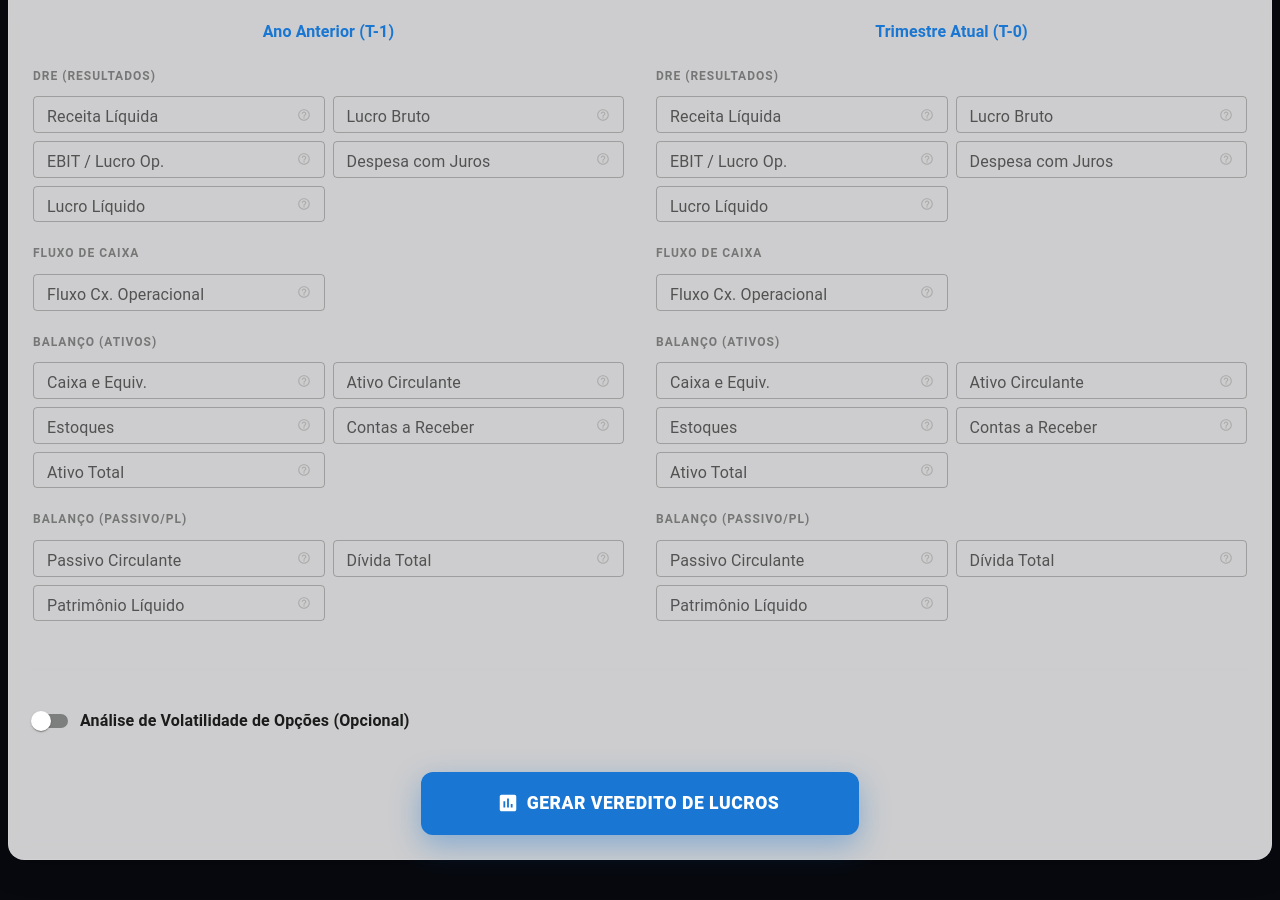
Test: EarningsPredictionPage validation › blocks submit on empty fields and names the invalid count
(page scrolled)
Click the button "Gerar Veredito de Lucros" at (640, 804), box [421,772,859,835]
(page scrolled)
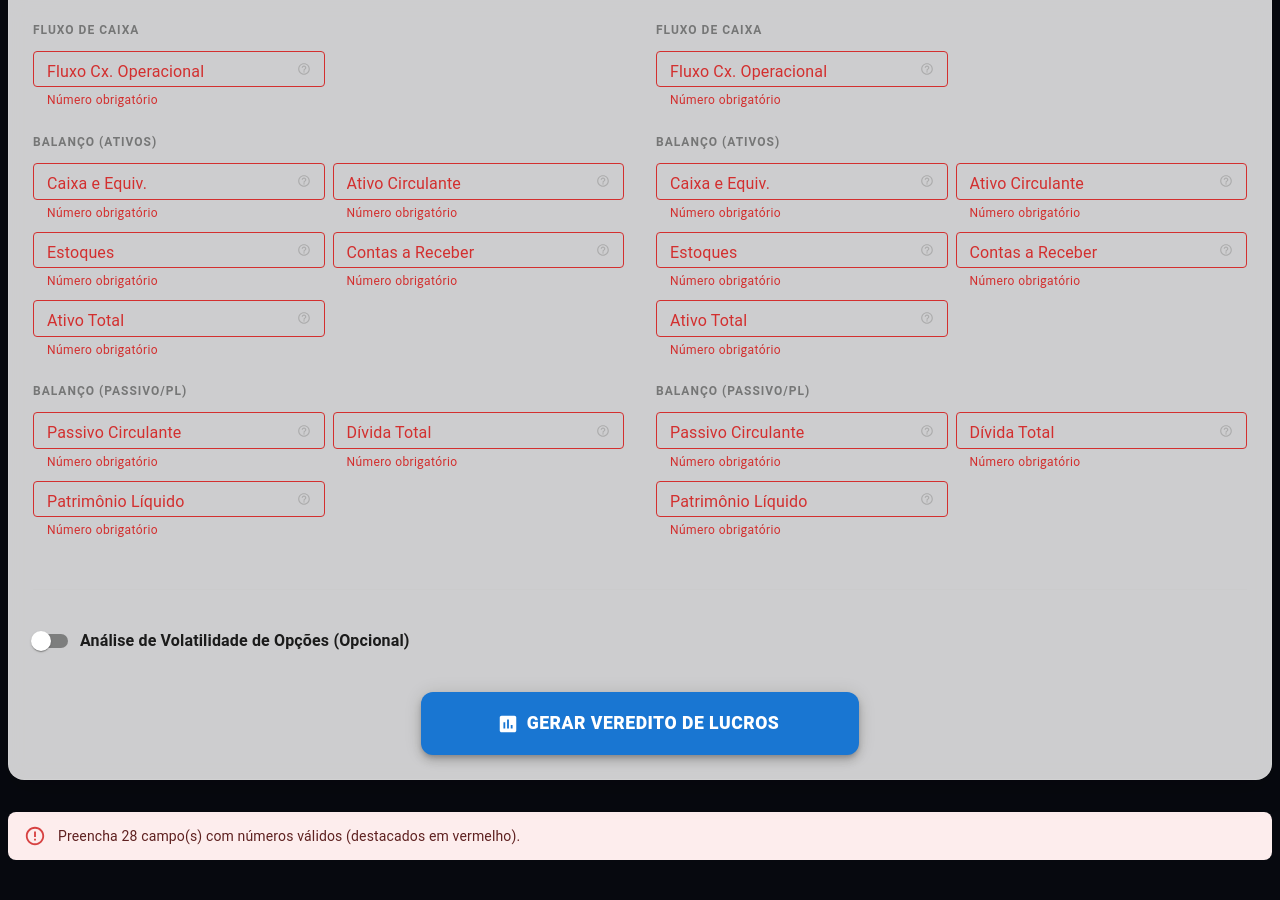
Expected: the text "Preencha 28 campo(s)" is shown, [58,828,520,844]
